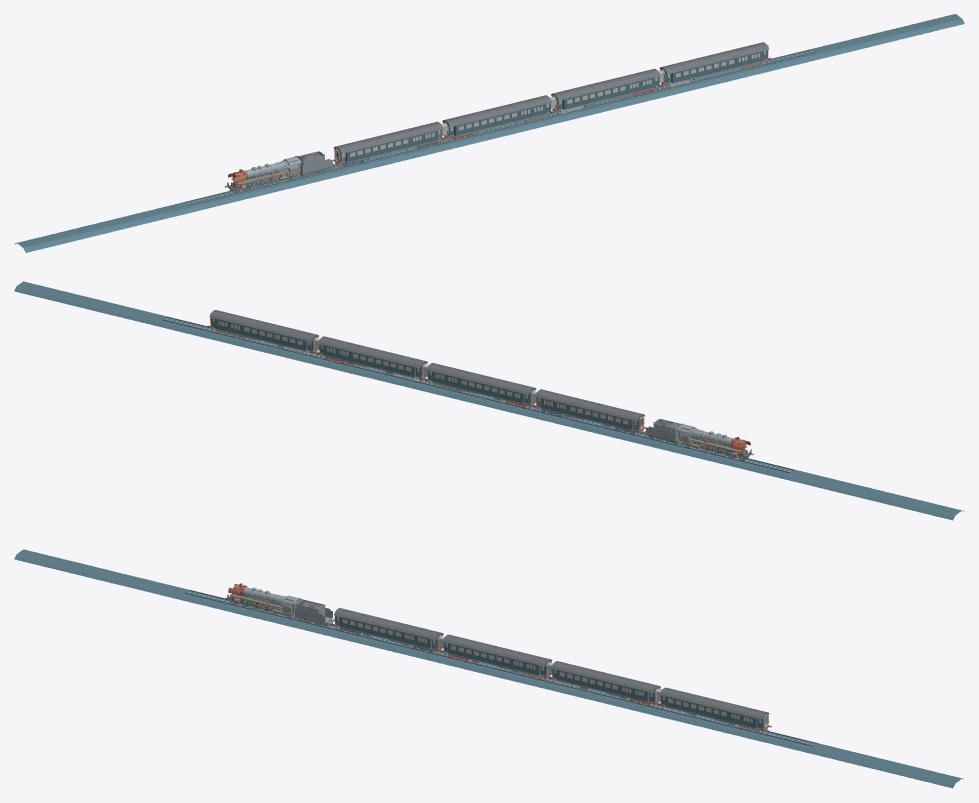
File: SUP_trem_composicao_obj_20261016.glb
3 views of the same model, one above another, from view 1: azimuth 30°, elevation 25°; view 2: azimuth 150°, elevation 25°; view 3: azimuth 330°, elevation 25° (orthographic).
Parts seen in each view (by area): view 1: RAIL16_TRAIN_DERIVED_00, RAIL16_TRAIN_DERIVED_22, RAIL16_TRAIN_DERIVED_24, RAIL16_TRAIN_DERIVED_06, RAIL16_TRAIN_DERIVED_15, RAIL16_TRAIN_DERIVED_07, RAIL16_TRAIN_DERIVED_01, RAIL16_TRAIN_DERIVED_13, RAIL16_TRAIN_DERIVED_23; view 2: RAIL16_TRAIN_DERIVED_00, RAIL16_TRAIN_DERIVED_22, RAIL16_TRAIN_DERIVED_24, RAIL16_TRAIN_DERIVED_06, RAIL16_TRAIN_DERIVED_15, RAIL16_TRAIN_DERIVED_07, RAIL16_TRAIN_DERIVED_01, RAIL16_TRAIN_DERIVED_13; view 3: RAIL16_TRAIN_DERIVED_00, RAIL16_TRAIN_DERIVED_22, RAIL16_TRAIN_DERIVED_24, RAIL16_TRAIN_DERIVED_06, RAIL16_TRAIN_DERIVED_15, RAIL16_TRAIN_DERIVED_07, RAIL16_TRAIN_DERIVED_01, RAIL16_TRAIN_DERIVED_13.
Part boxes in pixels (x1,y1,x2,y2): RAIL16_TRAIN_DERIVED_00: (14,14,964,252); RAIL16_TRAIN_DERIVED_22: (234,42,769,192); RAIL16_TRAIN_DERIVED_24: (226,50,767,193); RAIL16_TRAIN_DERIVED_06: (184,49,816,205); RAIL16_TRAIN_DERIVED_15: (342,50,765,157); RAIL16_TRAIN_DERIVED_07: (241,151,332,190); RAIL16_TRAIN_DERIVED_01: (339,58,767,165); RAIL16_TRAIN_DERIVED_13: (187,50,814,205); RAIL16_TRAIN_DERIVED_23: (231,130,440,188); RAIL16_TRAIN_DERIVED_00: (14,281,964,520); RAIL16_TRAIN_DERIVED_22: (209,310,743,460); RAIL16_TRAIN_DERIVED_24: (211,317,752,460); RAIL16_TRAIN_DERIVED_06: (162,316,793,473); RAIL16_TRAIN_DERIVED_15: (212,318,636,425); RAIL16_TRAIN_DERIVED_07: (646,419,736,457); RAIL16_TRAIN_DERIVED_01: (211,326,638,432); RAIL16_TRAIN_DERIVED_13: (163,318,791,473); RAIL16_TRAIN_DERIVED_00: (14,549,963,788); RAIL16_TRAIN_DERIVED_22: (231,587,769,729); RAIL16_TRAIN_DERIVED_24: (226,594,769,728); RAIL16_TRAIN_DERIVED_06: (185,589,816,746); RAIL16_TRAIN_DERIVED_15: (337,616,761,723); RAIL16_TRAIN_DERIVED_07: (234,587,332,623); RAIL16_TRAIN_DERIVED_01: (336,624,763,729); RAIL16_TRAIN_DERIVED_13: (186,591,814,746).
Bounding box in the file's own units: 228 × 5.8 × 5.02.
